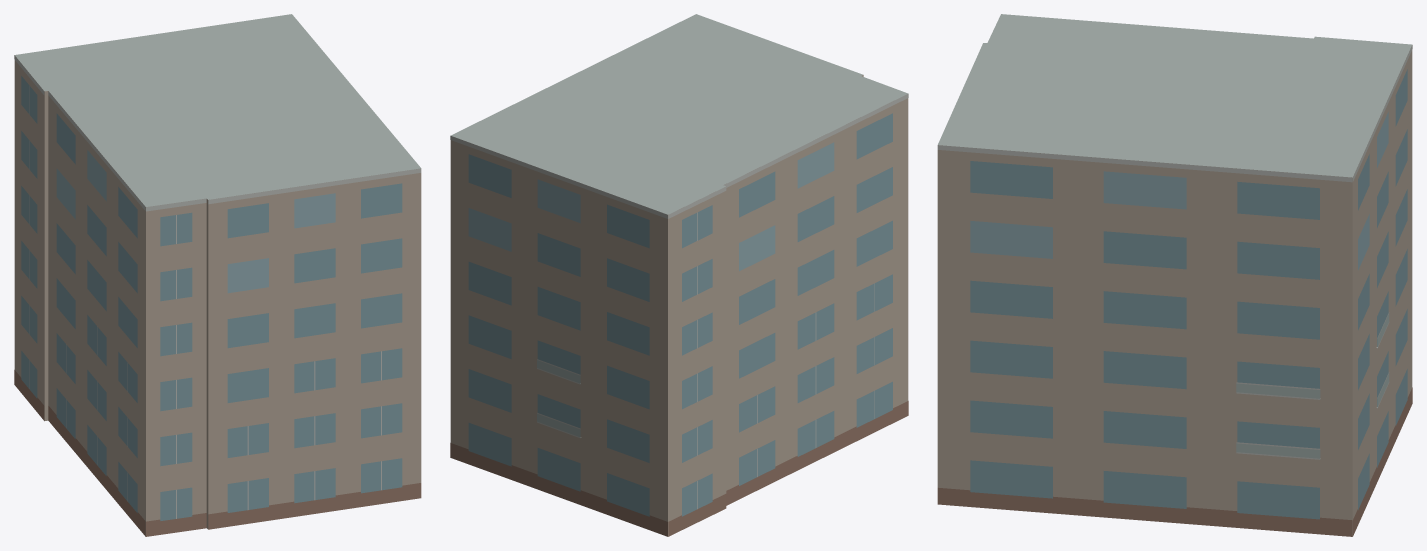
The model's file is survey-upis-32700972.glb.
3 views of the same model, side by side, from view 1: azimuth 30°, elevation 25°; view 2: azimuth 150°, elevation 25°; view 3: azimuth 270°, elevation 25° (orthographic). The views are drawn at different scales.
Parts seen in each view (by area): view 1: survey-upis-32700972.tmp; view 2: survey-upis-32700972.tmp; view 3: survey-upis-32700972.tmp.
Boxes of the visible parts, bbox=[...] form: survey-upis-32700972.tmp: bbox=[14, 14, 421, 536]; survey-upis-32700972.tmp: bbox=[450, 14, 908, 536]; survey-upis-32700972.tmp: bbox=[937, 14, 1412, 536].
Size of the model in its own units: 17.87 by 18.3 by 21.92.
